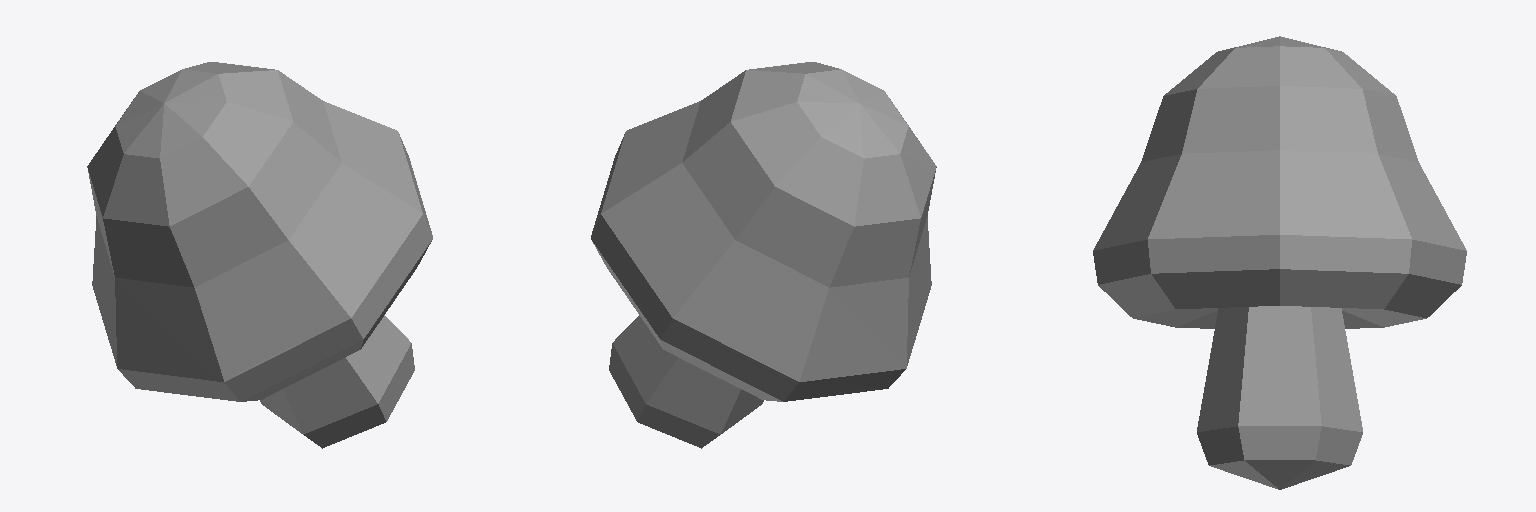
Rendered from Mush.obj.
3 renders of one model, left to right at view 1: azimuth 30°, elevation 25°; view 2: azimuth 150°, elevation 25°; view 3: azimuth 270°, elevation 25°, orthographic.
Parts seen in each view (by area): view 1: node-03B32EE5_geom-03B32EE5, node-014CA613_geom-014CA613; view 2: node-03B32EE5_geom-03B32EE5, node-014CA613_geom-014CA613; view 3: node-03B32EE5_geom-03B32EE5, node-014CA613_geom-014CA613.
Boxes of the visible parts, <box> form: node-03B32EE5_geom-03B32EE5: <box>87,62,432,401</box>; node-014CA613_geom-014CA613: <box>260,315,414,448</box>; node-03B32EE5_geom-03B32EE5: <box>591,62,936,401</box>; node-014CA613_geom-014CA613: <box>609,315,763,448</box>; node-03B32EE5_geom-03B32EE5: <box>1093,36,1466,317</box>; node-014CA613_geom-014CA613: <box>1133,306,1426,489</box>.
Bounding box in the file's own units: 0.4778 × 0.5705 × 0.5058.